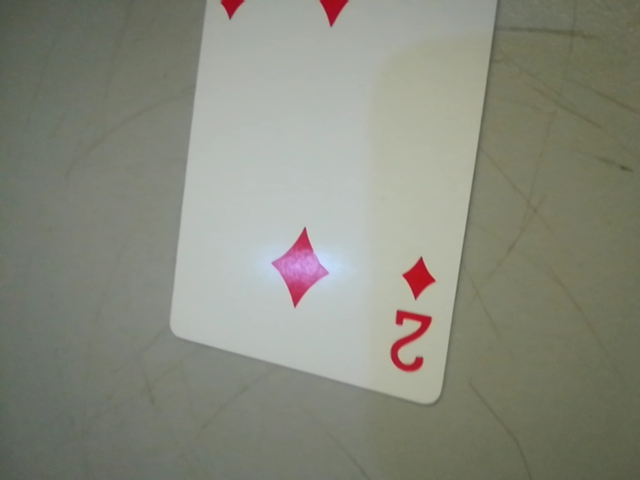fk 2: (375, 249, 446, 386)
